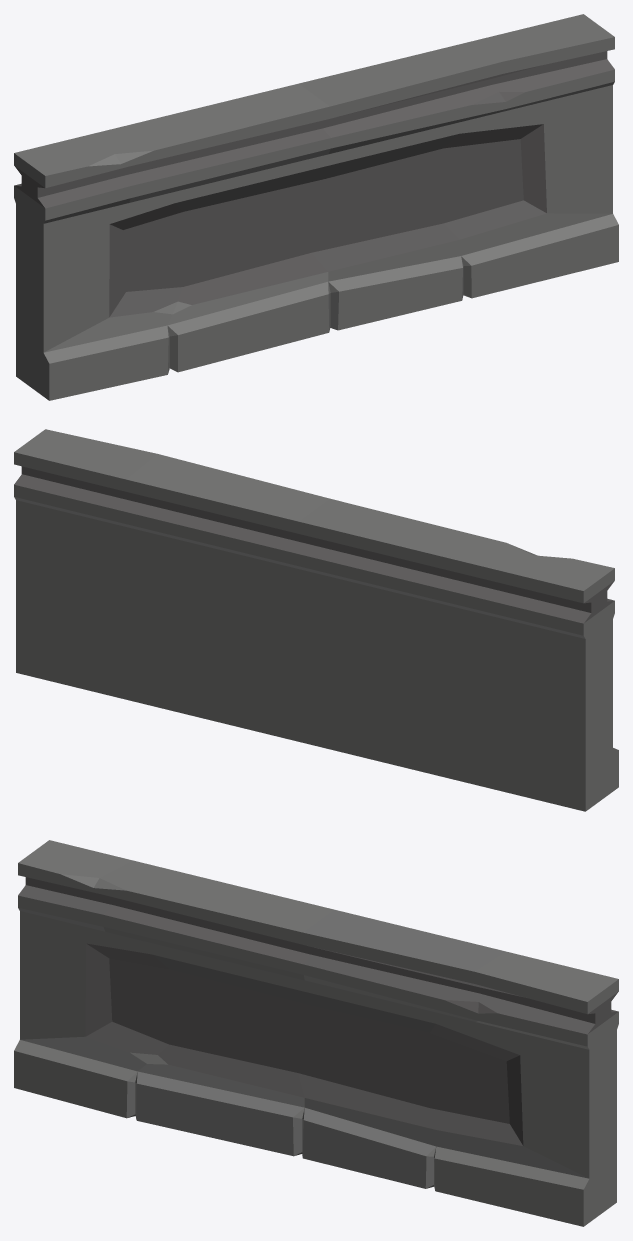
The model's file is SM_Env_Wall_Trim_Edge_01.FBX.
3 renders of one model, top to bottom at view 1: azimuth 30°, elevation 25°; view 2: azimuth 150°, elevation 25°; view 3: azimuth 330°, elevation 25°, orthographic.
Parts seen in each view (by area): view 1: SM_Env_Wall_Trim_Edge_01; view 2: SM_Env_Wall_Trim_Edge_01; view 3: SM_Env_Wall_Trim_Edge_01.
Boxes of the visible parts, x1,y1,x2,y2 form: SM_Env_Wall_Trim_Edge_01: (14, 14, 618, 400); SM_Env_Wall_Trim_Edge_01: (14, 429, 618, 811); SM_Env_Wall_Trim_Edge_01: (14, 840, 618, 1226).
Size of what is drawn, in the model's own units: 500 by 58.27 by 189.
